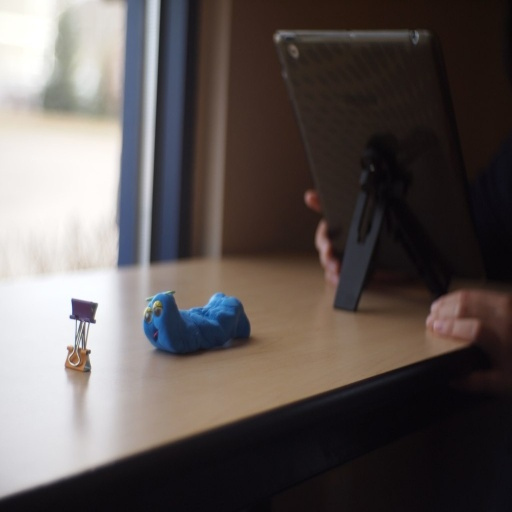hand: (423, 285, 511, 354), (306, 189, 338, 281)
